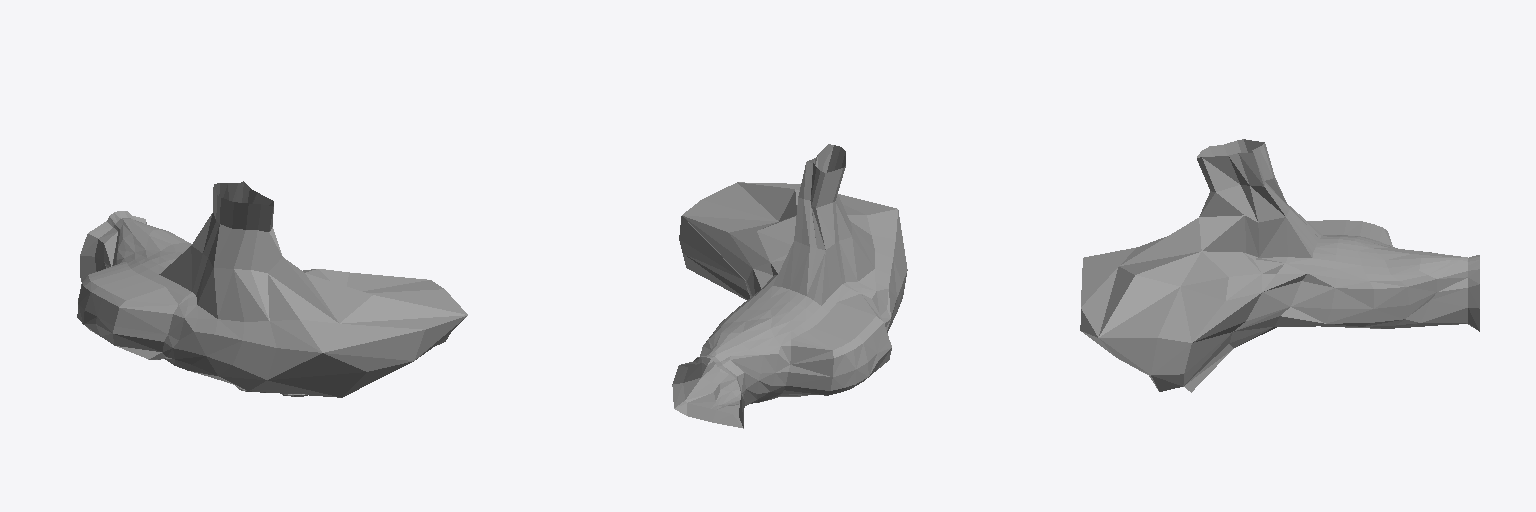
Rendered from caveFalls.obj.
3 renders of one model, left to right at view 1: azimuth 30°, elevation 25°; view 2: azimuth 150°, elevation 25°; view 3: azimuth 270°, elevation 25°, orthographic.
Visible parts, largest first — view 1: MainChamberONE300; view 2: MainChamberONE300; view 3: MainChamberONE300.
Boxes of the visible parts, <box> form: MainChamberONE300: <box>77,181,467,397</box>; MainChamberONE300: <box>672,144,907,428</box>; MainChamberONE300: <box>1080,139,1479,392</box>.
Size of the model in its own units: 132 by 83.19 by 166.